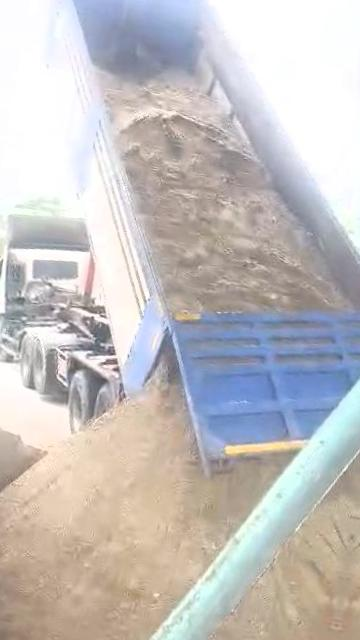sand: (0, 367, 286, 640), (102, 74, 348, 310), (193, 452, 360, 640), (0, 401, 42, 525)
